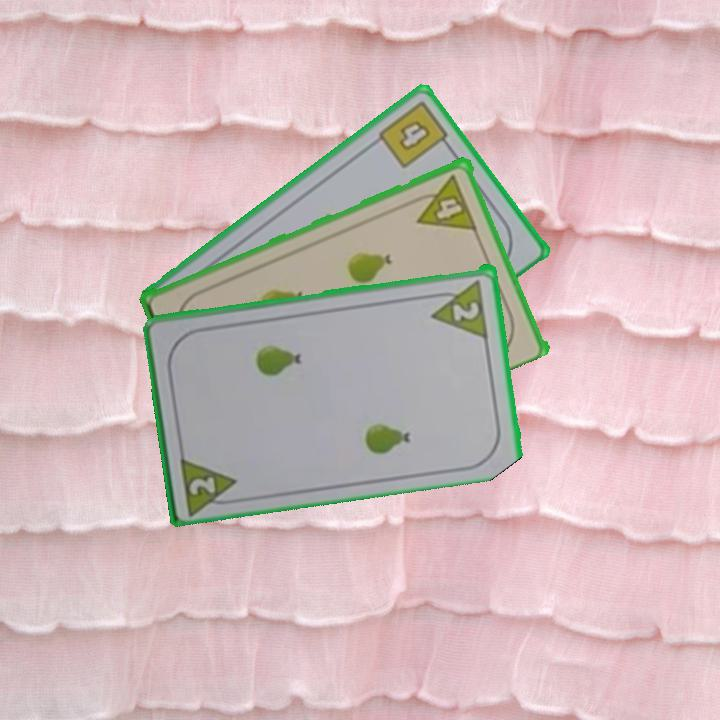2p: (449, 297, 483, 323), (185, 472, 219, 498)
4b: (374, 97, 455, 171)
4p: (407, 170, 479, 233)
